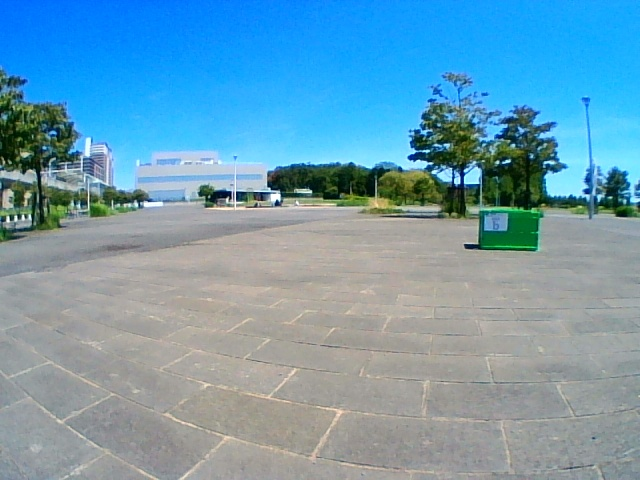green_box: (479, 209, 539, 250)
tag_b: (486, 214, 507, 230)
